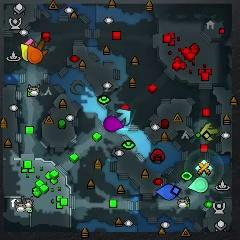Other: (195, 159, 213, 177)
p1: (155, 184, 178, 200)
p2: (188, 177, 208, 192)
p3: (103, 116, 124, 131)
p4: (21, 43, 29, 61)
p5: (27, 45, 43, 64)
x1: (25, 38, 33, 45)
x2: (199, 123, 218, 140)
x3: (115, 108, 131, 124)
x5: (31, 40, 49, 56)
